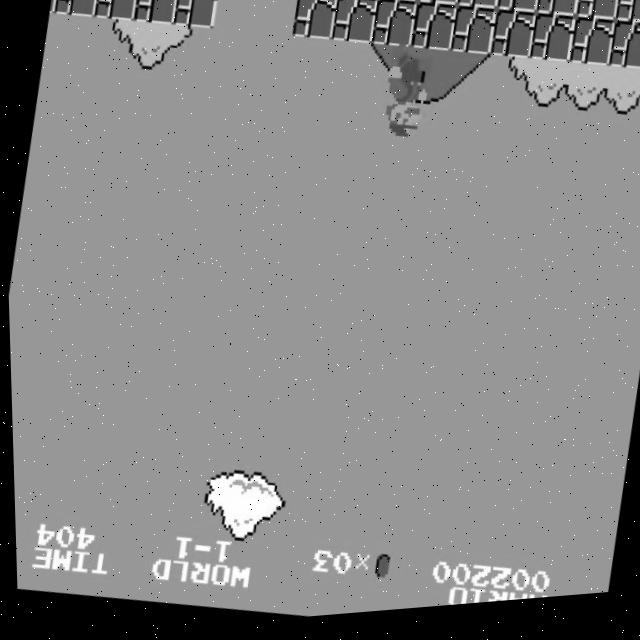0- big_mario: (376, 46, 438, 150)
17- undestructible_block: (566, 23, 616, 78), (527, 19, 577, 74), (408, 6, 458, 61), (488, 15, 537, 70), (448, 10, 497, 65), (369, 1, 418, 56), (329, 0, 379, 52), (290, 0, 339, 47), (606, 28, 640, 82), (171, 0, 220, 34), (574, 1, 619, 34), (132, 0, 181, 30), (535, 0, 579, 29), (92, 0, 141, 25), (495, 0, 540, 25), (53, 0, 102, 21), (455, 0, 500, 20), (613, 6, 640, 38), (416, 0, 460, 16), (376, 0, 421, 11), (337, 0, 382, 6), (48, 0, 61, 14), (297, 0, 341, 2)
